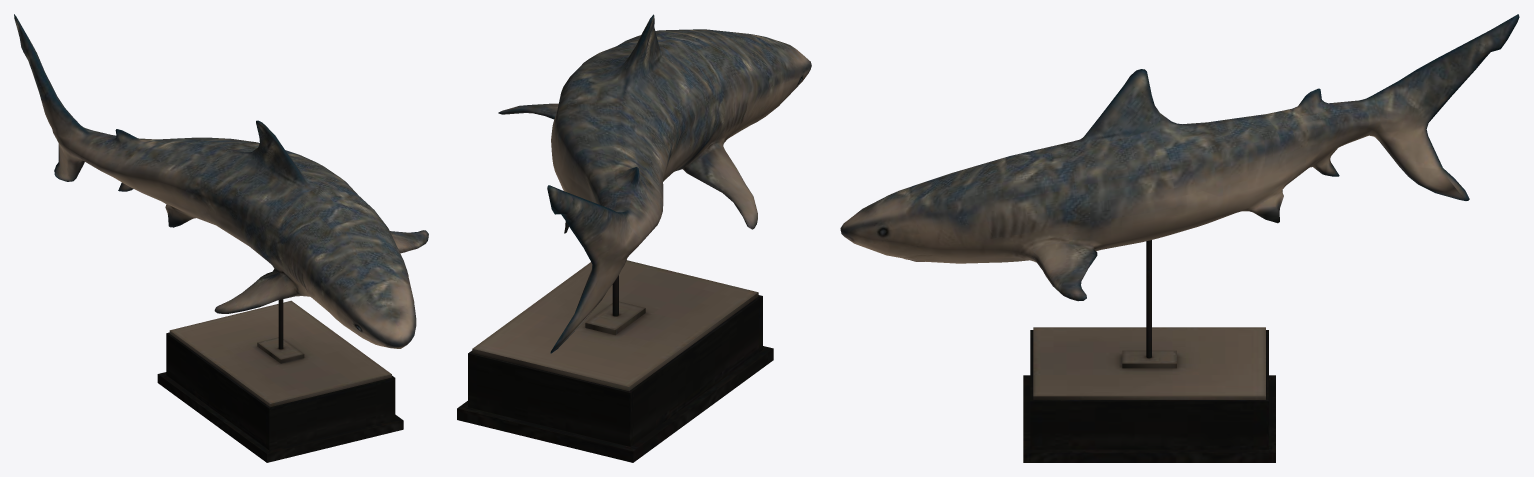
The model's file is bronze_shark_statue.glb.
3 views of the same model, side by side, from view 1: azimuth 30°, elevation 25°; view 2: azimuth 150°, elevation 25°; view 3: azimuth 270°, elevation 25° (orthographic). The views are drawn at different scales.
Parts seen in each view (by area): view 1: bronze_shark_statue; view 2: bronze_shark_statue; view 3: bronze_shark_statue.
Boxes of the visible parts, box(x1,y1,x2,y2) form: bronze_shark_statue: box(14, 14, 428, 462); bronze_shark_statue: box(457, 14, 811, 462); bronze_shark_statue: box(840, 14, 1519, 462).
Size of the model in its own units: 0.3518 by 0.4316 by 0.7598.
1 material, 1 textured.
